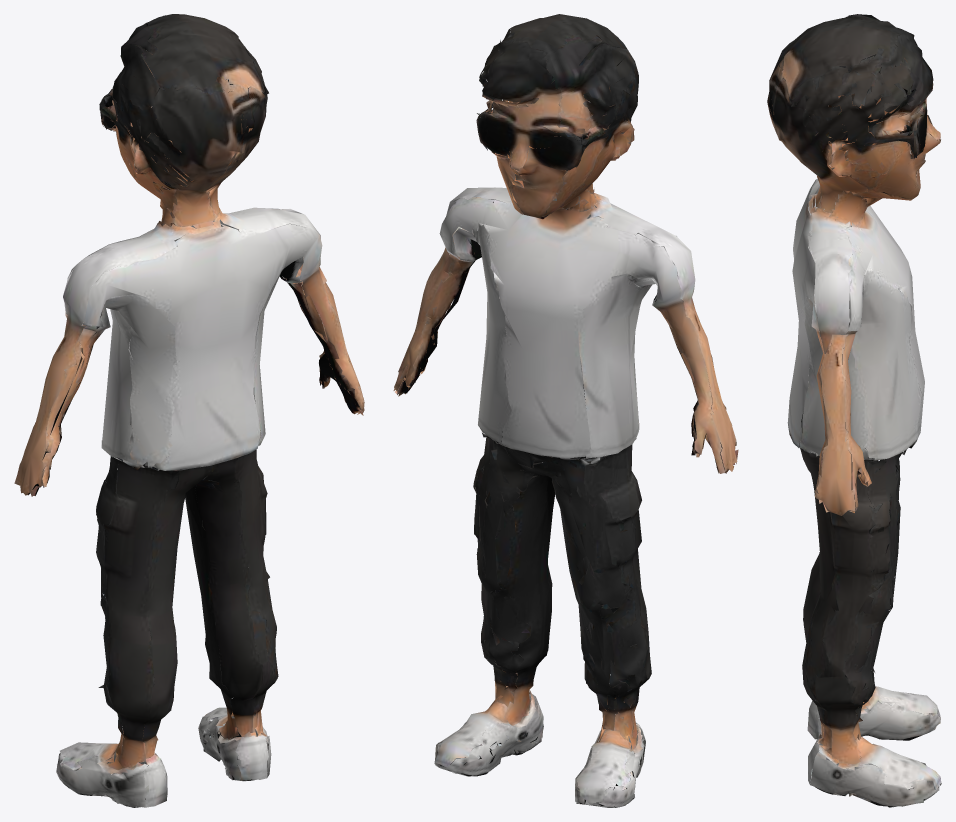
Rendered from customer_7.glb.
3 renders of one model, left to right at view 1: azimuth 30°, elevation 25°; view 2: azimuth 150°, elevation 25°; view 3: azimuth 270°, elevation 25°, orthographic. The views are drawn at different scales.
Visible parts, largest first — view 1: tmpnl5cu5z7ply; view 2: tmpnl5cu5z7ply; view 3: tmpnl5cu5z7ply.
Part boxes in pixels (x1,y1,x2,y2): tmpnl5cu5z7ply: (14,14,364,807); tmpnl5cu5z7ply: (393,14,738,807); tmpnl5cu5z7ply: (767,14,941,807).
Size of the model in its own units: 0.786 by 1.68 by 0.3589.
1 material, 1 textured.
